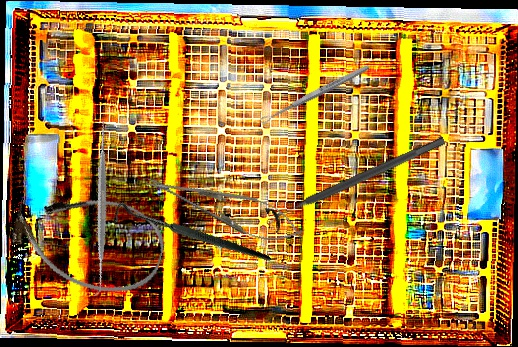Cannula: (3, 175, 173, 306)
Fixation Ring: (264, 127, 451, 235)
Hook Surgical: (106, 153, 273, 321)
Needle Holder: (140, 162, 309, 252)
Spatula Surgical: (11, 116, 192, 297)
Surgical Spoon: (258, 62, 372, 126)
